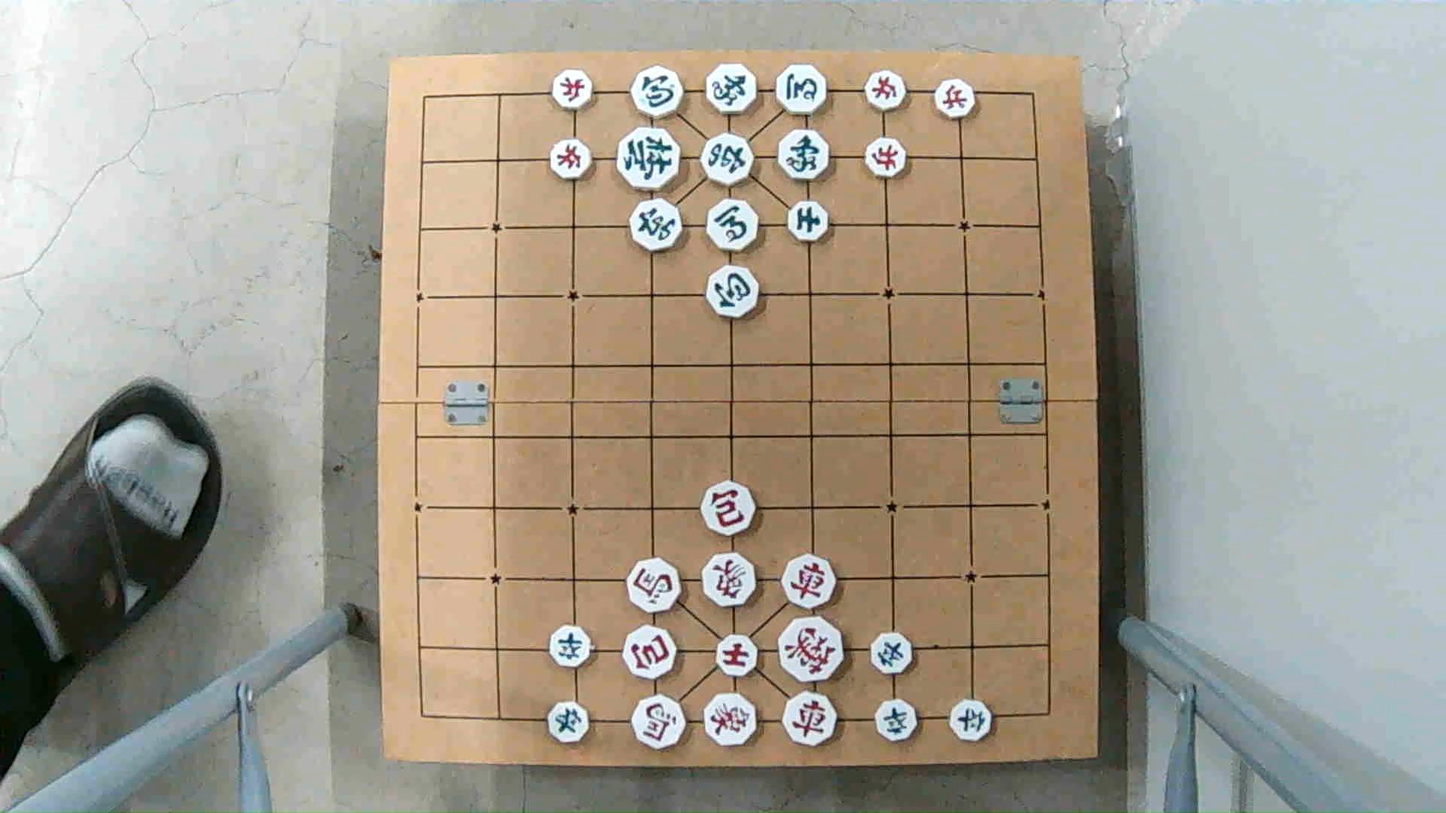cha_green: (697, 135, 753, 184), (630, 200, 682, 251)
cha_red: (780, 695, 838, 748), (784, 555, 838, 604)
jol_green: (869, 698, 921, 740), (545, 701, 593, 745), (947, 697, 993, 742), (869, 635, 914, 675), (547, 626, 591, 666)
jol_red: (862, 136, 908, 181), (863, 68, 905, 112), (932, 78, 978, 118), (554, 68, 595, 111), (548, 139, 591, 177)
ma_green: (703, 202, 758, 251), (772, 68, 828, 114)
ma_red: (632, 693, 688, 750), (627, 562, 684, 612)
po_green: (706, 264, 761, 314), (630, 65, 685, 114)
po_red: (699, 486, 755, 534), (622, 632, 678, 679)
sa_green: (787, 202, 830, 242)
sa_red: (715, 636, 759, 678)
sang_green: (775, 131, 829, 179), (702, 66, 756, 114)
sang_red: (701, 553, 756, 607), (703, 694, 761, 745)
wang_green: (614, 128, 682, 188)
wang_red: (775, 621, 847, 681)
